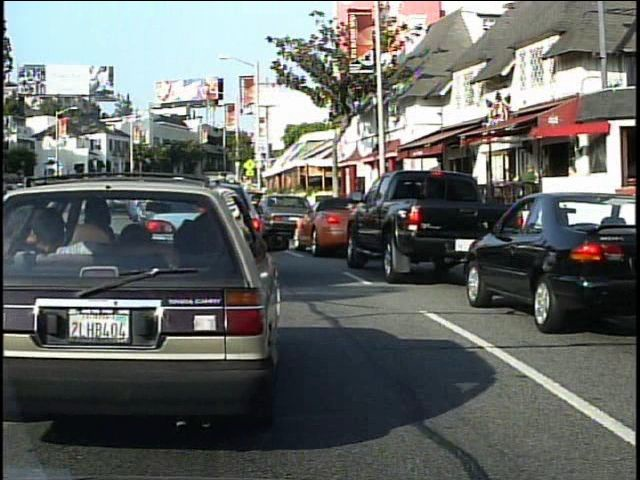person: (517, 157, 542, 224)
